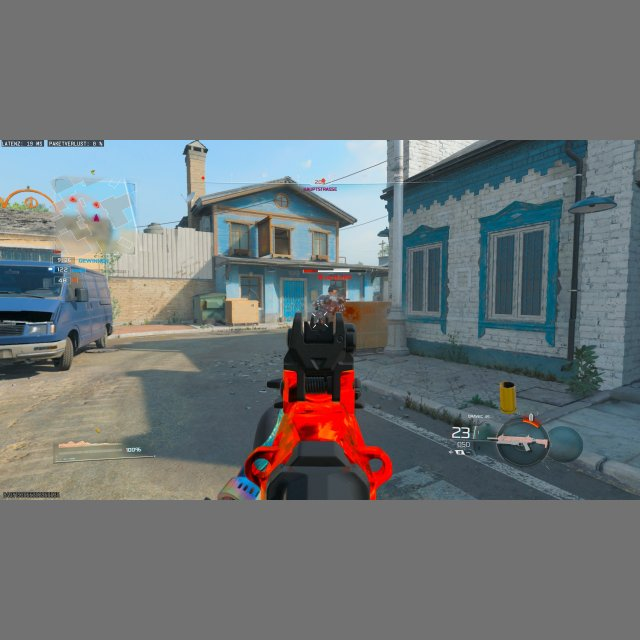head: (328, 286, 337, 296)
player: (314, 286, 343, 324)
